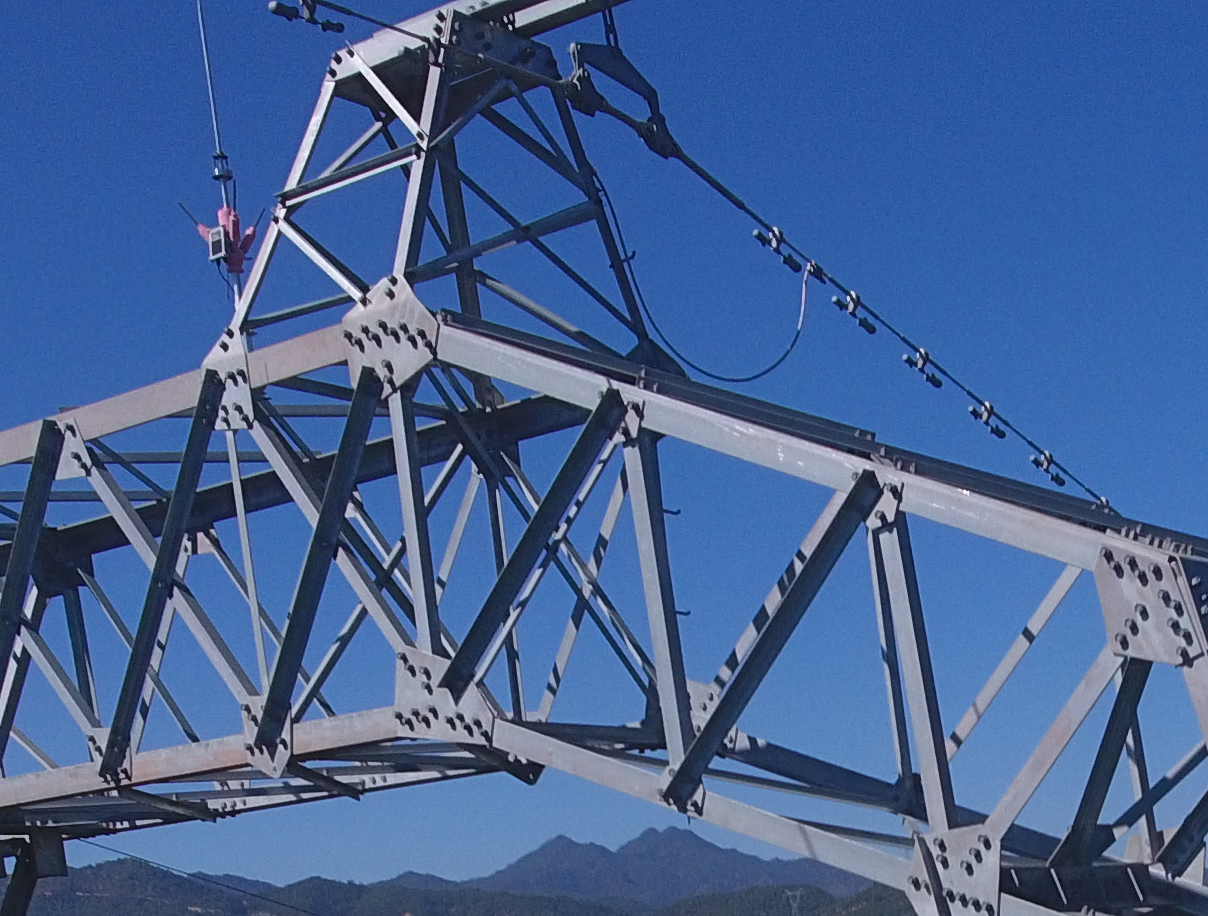damper: (263, 1, 351, 34), (749, 224, 802, 275), (829, 291, 878, 336), (900, 347, 943, 390), (1028, 451, 1071, 491), (967, 399, 1007, 440)
